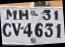character: (11, 21, 21, 36), (22, 22, 32, 37), (5, 8, 17, 20), (2, 22, 11, 37), (34, 22, 43, 37), (44, 22, 53, 37), (18, 8, 29, 20), (55, 23, 62, 38), (42, 9, 51, 20), (53, 9, 59, 20)
